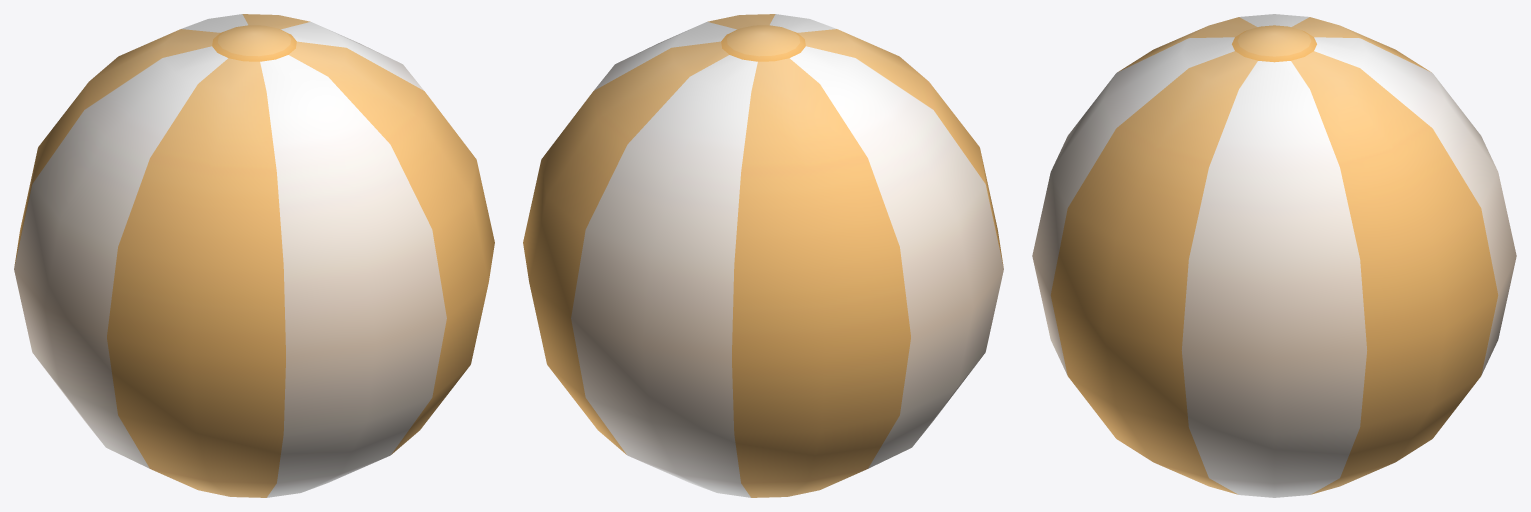
Rendered from Doll_OB_Ball_005.FBX.
The picture shows the model from 3 angles, left to right: view 1: azimuth 30°, elevation 25°; view 2: azimuth 150°, elevation 25°; view 3: azimuth 270°, elevation 25°; orthographic projection.
Parts seen in each view (by area): view 1: Doll_OB_Ball_005; view 2: Doll_OB_Ball_005; view 3: Doll_OB_Ball_005.
Part boxes in pixels (x1,y1,x2,y2): Doll_OB_Ball_005: [14, 14, 494, 497]; Doll_OB_Ball_005: [523, 14, 1003, 497]; Doll_OB_Ball_005: [1032, 14, 1516, 497].
Size of the model in its own units: 20.6 by 20.83 by 20.6.
